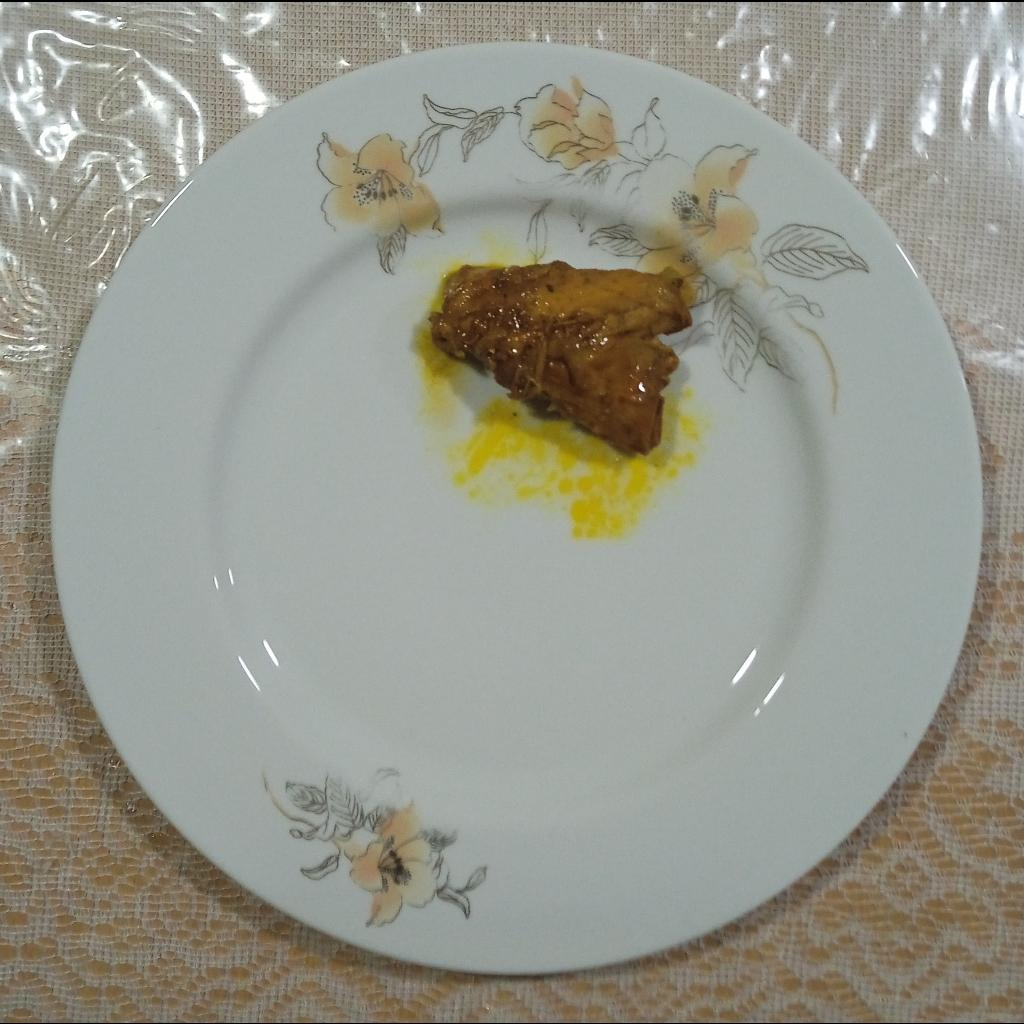chicken: (432, 257, 698, 459)
